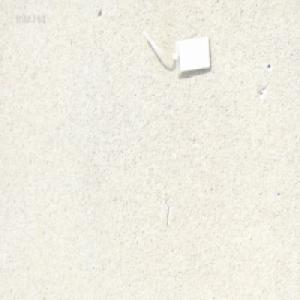LuggageTag: (140, 31, 213, 78)
